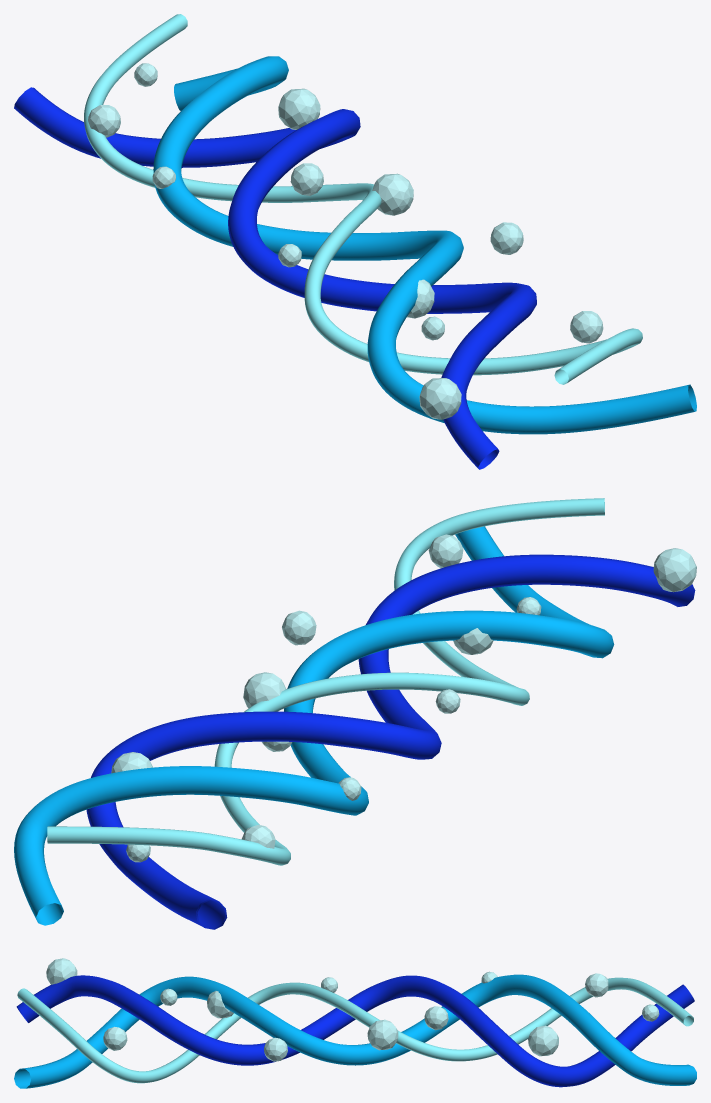
Rendered from 16_corrente_abissal_3d.obj.
The picture shows the model from 3 angles, top to bottom: view 1: azimuth 30°, elevation 25°; view 2: azimuth 150°, elevation 25°; view 3: azimuth 270°, elevation 25°; orthographic projection. The views are drawn at different scales.
Visible parts, largest first — view 1: Fita_de_água.001, Fita_de_água, Fita_de_água.002, Sphere.011, Sphere.002, Sphere.005, Sphere.007, Sphere.004, Sphere.010, Sphere.001; view 2: Fita_de_água.001, Fita_de_água, Fita_de_água.002, Sphere.011, Sphere.005, Sphere.007, Sphere.010, Sphere.008; view 3: Fita_de_água, Fita_de_água.001, Fita_de_água.002, Sphere.005, Sphere.002, Sphere.011, Sphere.004, Sphere.010, Sphere.007, Sphere.001, Sphere.008, Sphere.009 (+1 smaller).
Part boxes in pixels (x1,y1,x2,y2): Fita_de_água.001: (153, 56, 696, 434); Fita_de_água: (14, 87, 536, 469); Fita_de_água.002: (84, 14, 642, 384); Sphere.011: (419, 378, 461, 419); Sphere.002: (278, 88, 320, 129); Sphere.005: (372, 173, 413, 215); Sphere.007: (490, 222, 523, 254); Sphere.004: (290, 163, 323, 195); Sphere.010: (570, 311, 603, 343); Sphere.001: (88, 105, 120, 137); Fita_de_água.001: (14, 526, 614, 925); Fita_de_água: (86, 554, 695, 929); Fita_de_água.002: (47, 498, 604, 865); Sphere.011: (653, 548, 696, 592); Sphere.005: (243, 672, 285, 711); Sphere.007: (282, 610, 316, 645); Sphere.010: (428, 534, 463, 568); Sphere.008: (453, 628, 493, 654); Fita_de_água: (16, 975, 694, 1087); Fita_de_água.001: (14, 974, 696, 1088); Fita_de_água.002: (17, 977, 693, 1083); Sphere.005: (367, 1019, 398, 1050); Sphere.002: (528, 1025, 558, 1056); Sphere.011: (46, 958, 77, 984); Sphere.004: (424, 1006, 448, 1030); Sphere.010: (103, 1026, 127, 1050); Sphere.007: (264, 1037, 287, 1061); Sphere.001: (585, 973, 608, 997); Sphere.008: (207, 991, 233, 1018); Sphere.009: (160, 988, 177, 1005).
Bounding box in the file's own units: 1.12 × 0.4431 × 3.57.
Materials: 15 (12 with a texture image).
